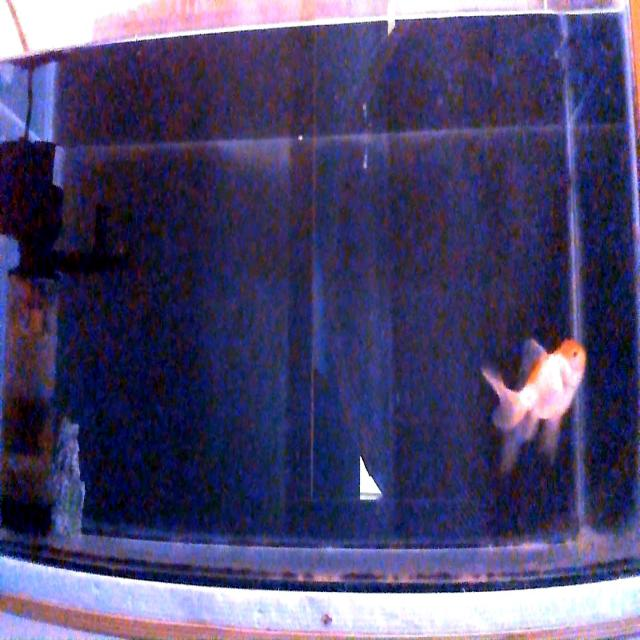fish: (483, 340, 586, 448)
